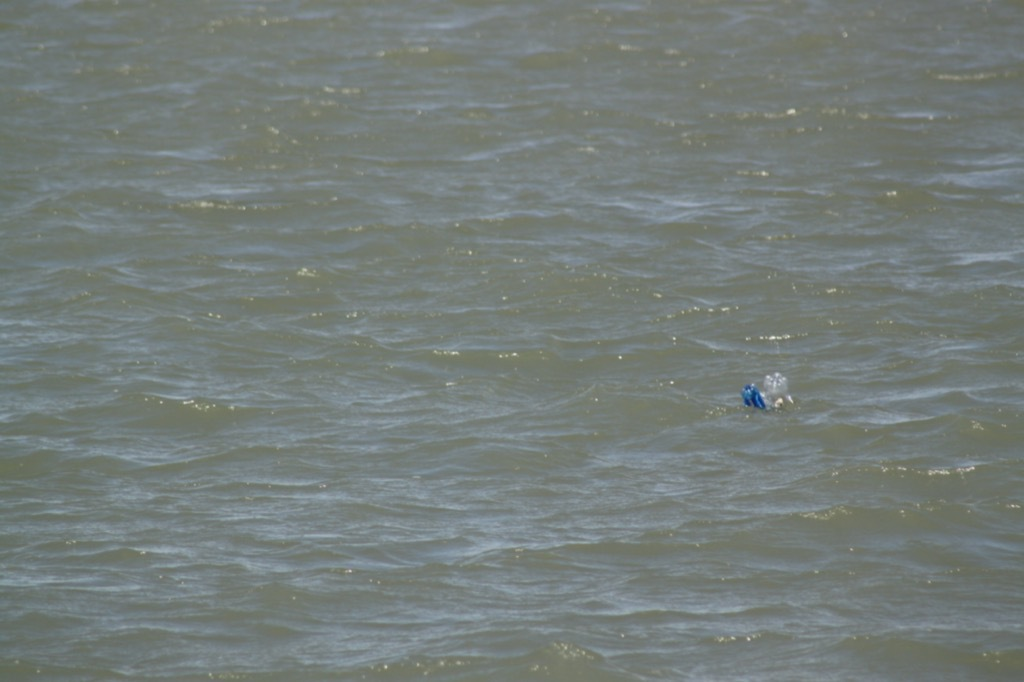plastic: (715, 346, 809, 433)
